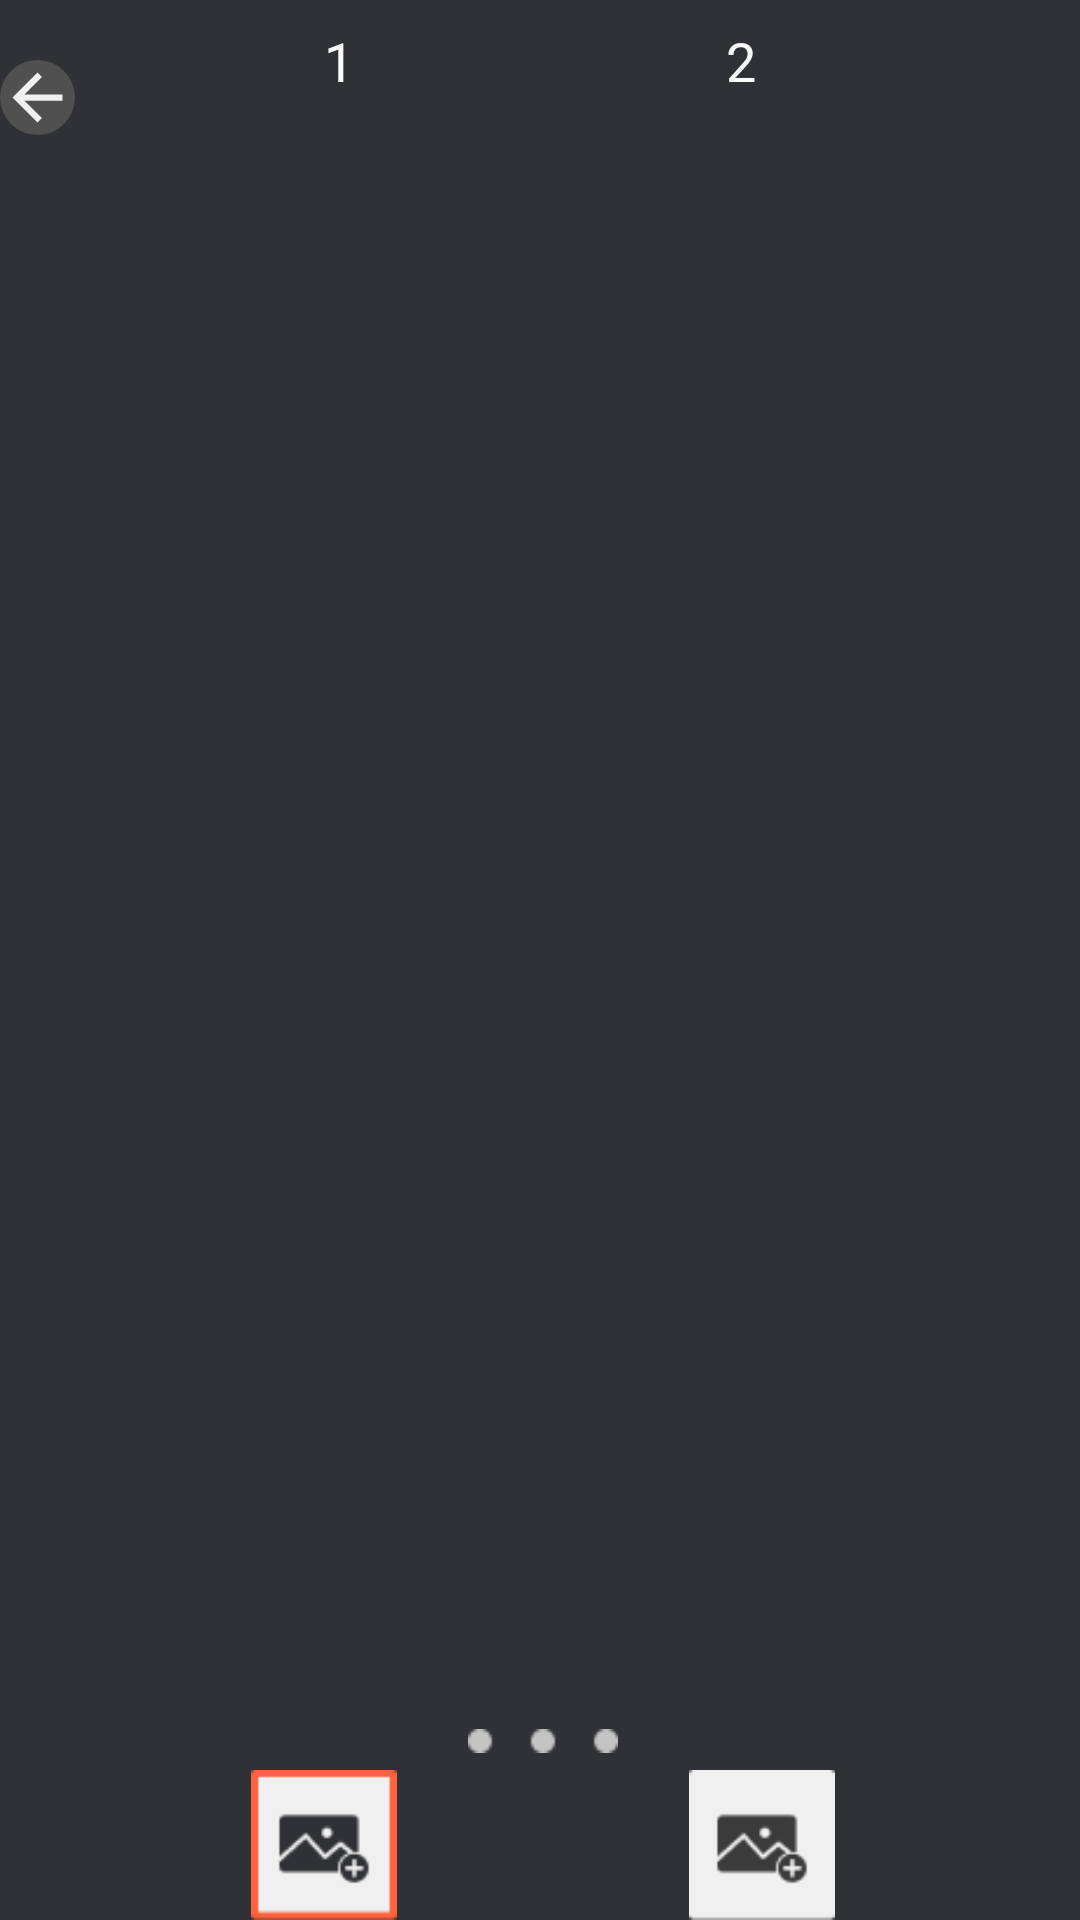

Icons on this 1080*1920 Android screen, each with the point to tap as [x,y]:
arrow back: [37,97]
select: [324,1845], [762,1845]
